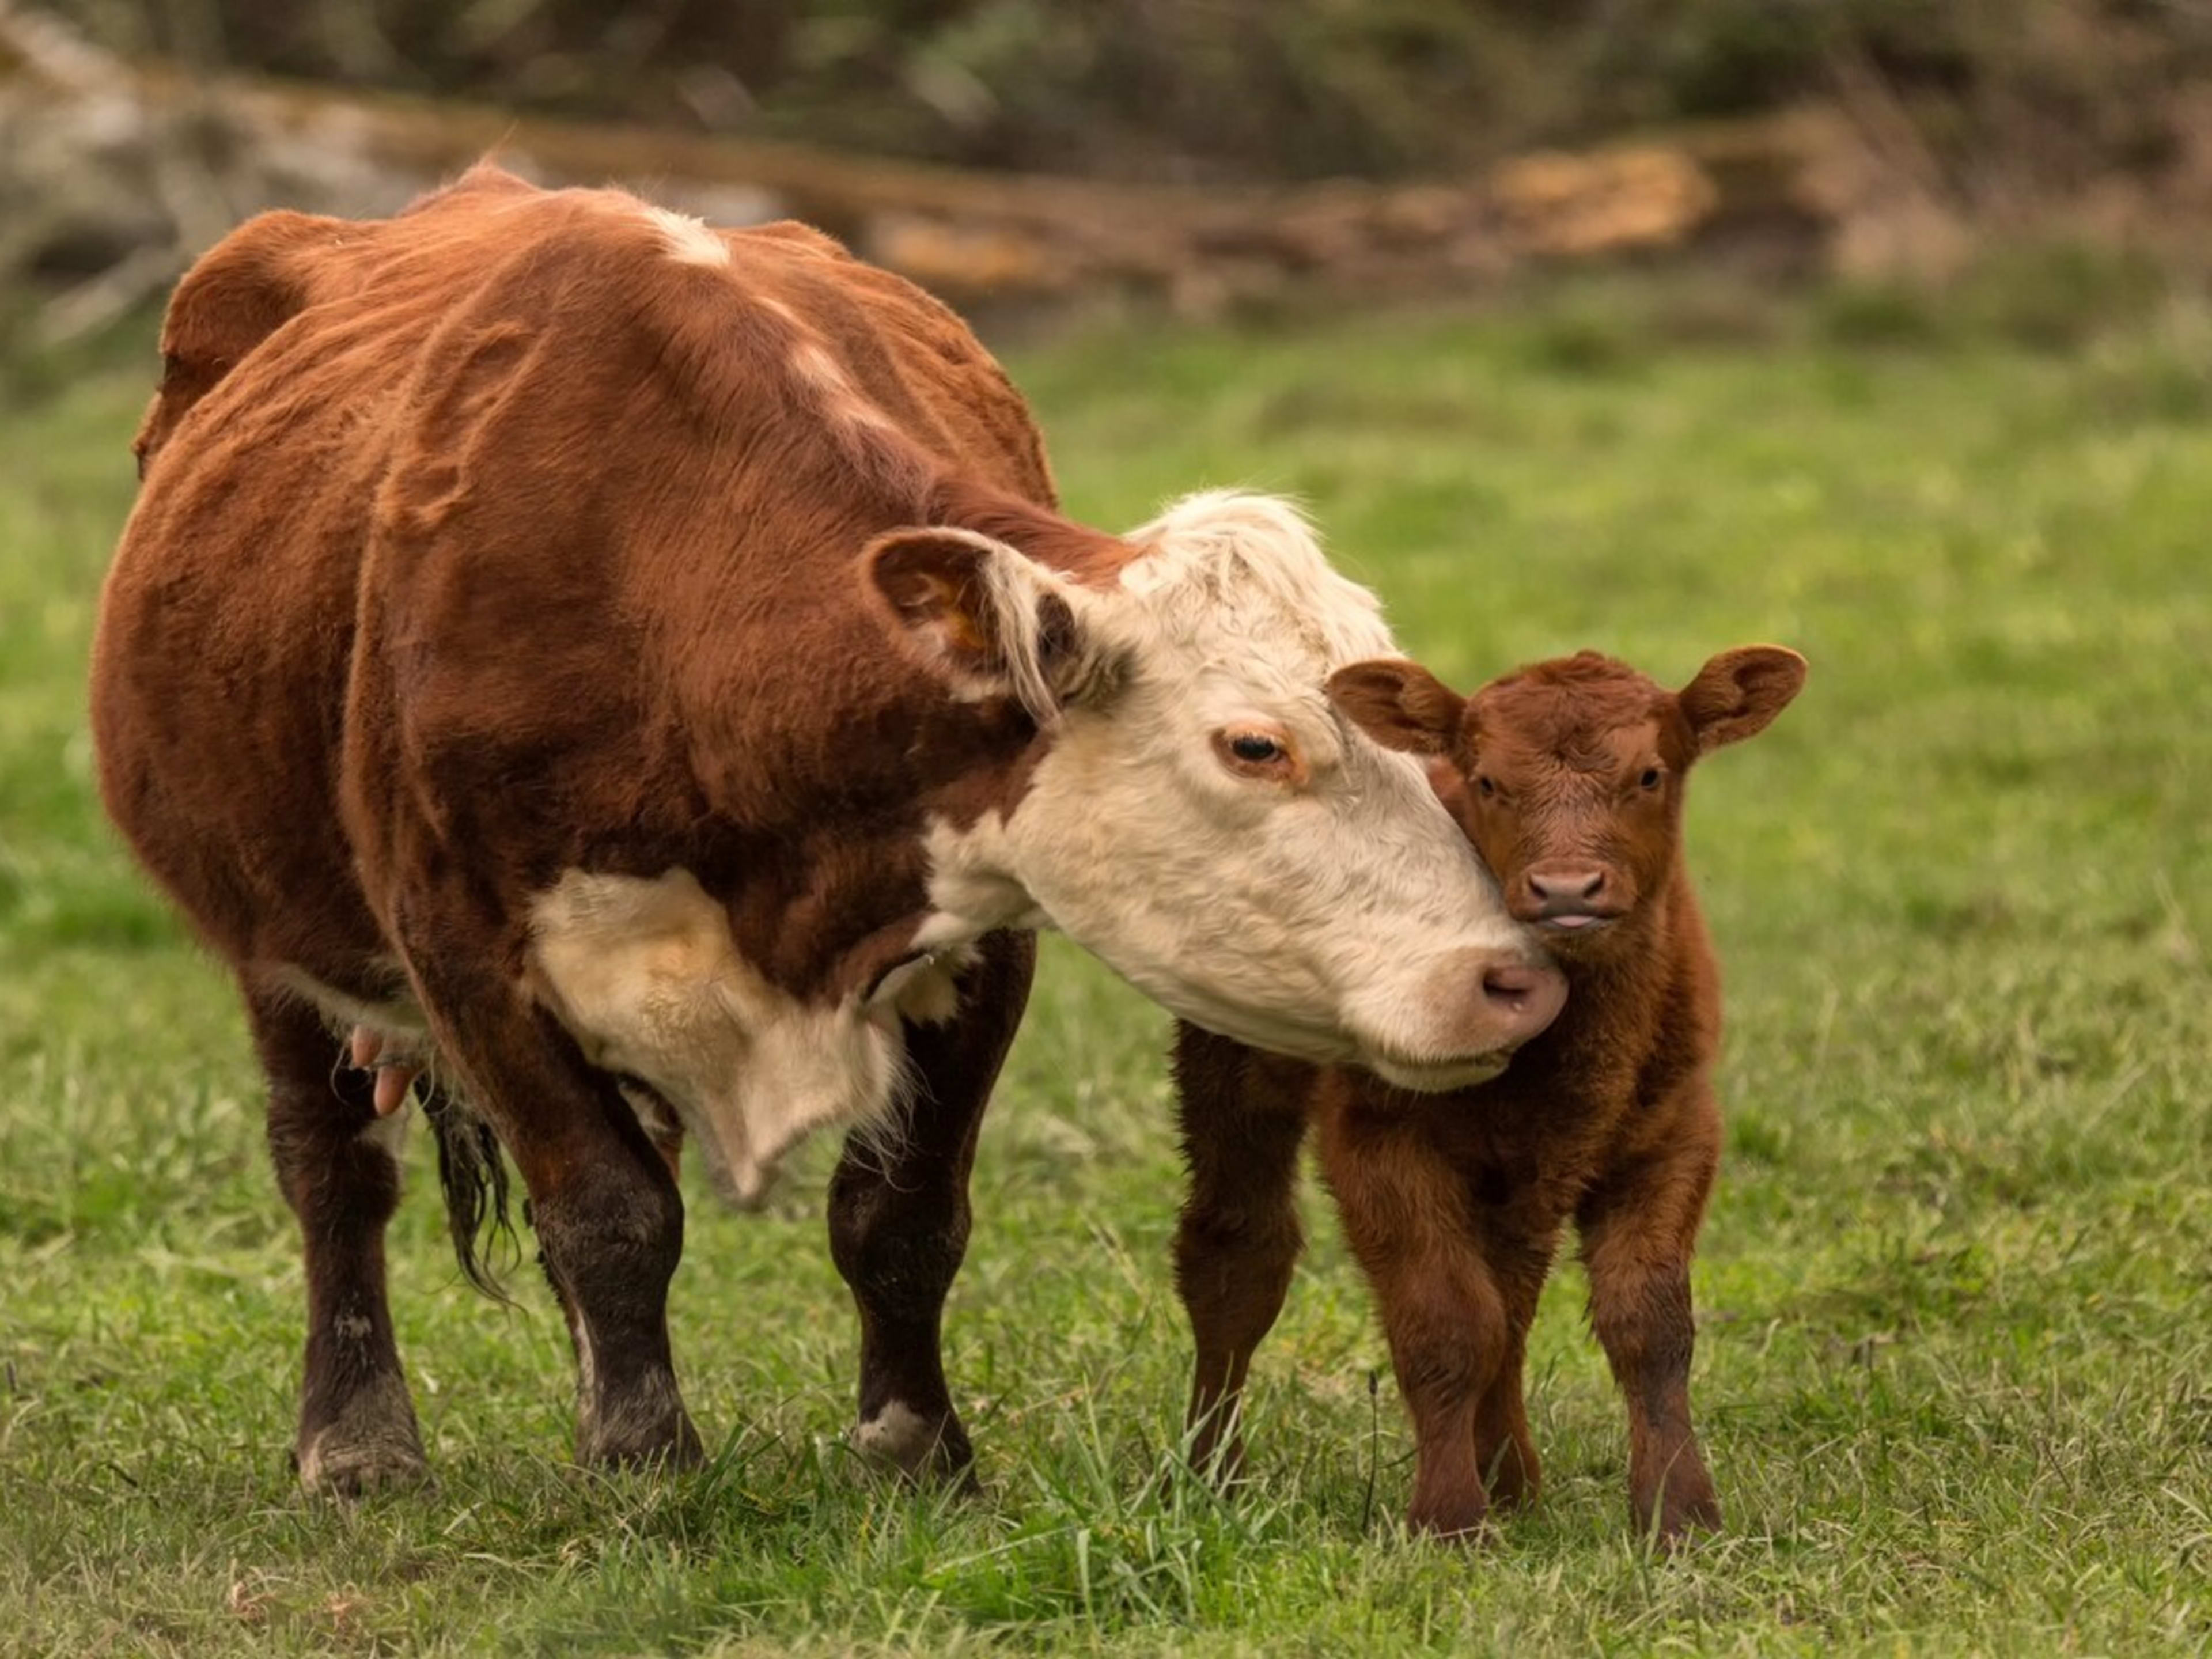cow: (89, 155, 1564, 1520)
